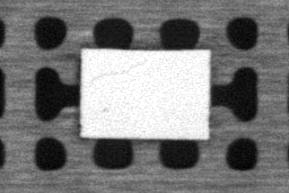DIE_CRACK: (86, 60, 147, 84)
